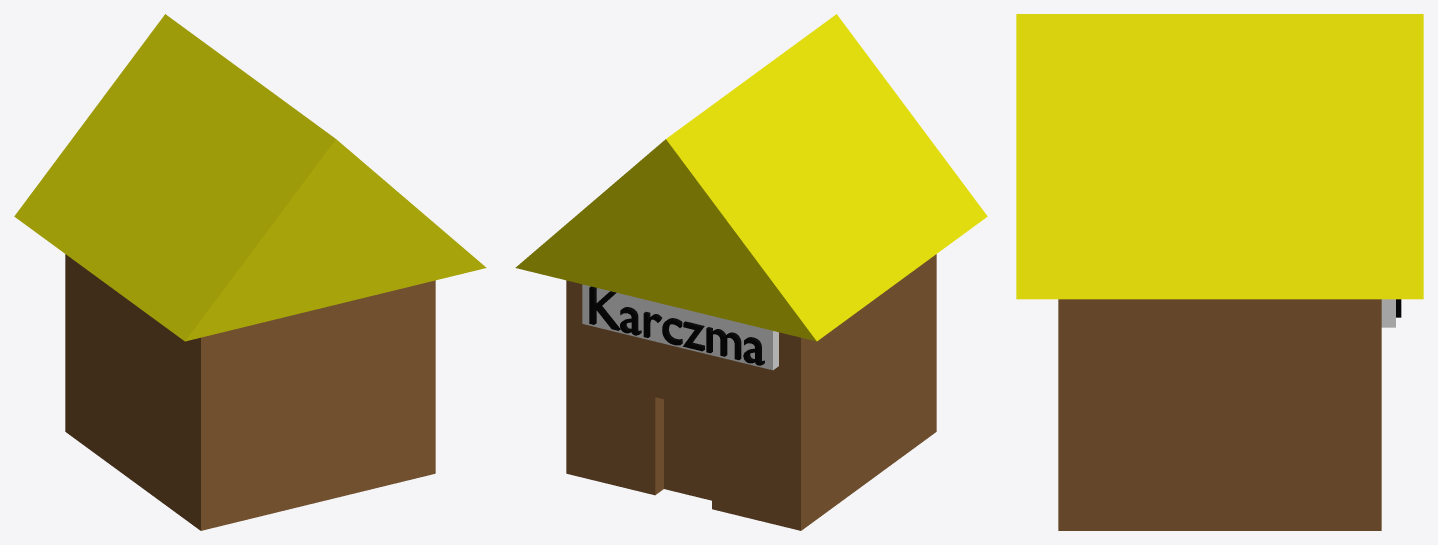
The model's file is karczma.glb.
3 views of the same model, side by side, from view 1: azimuth 30°, elevation 25°; view 2: azimuth 150°, elevation 25°; view 3: azimuth 270°, elevation 25° (orthographic). The views are drawn at different scales.
Parts seen in each view (by area): view 1: Cube.002, Cube; view 2: Cube.002, Cube, Cube.001, Text; view 3: Cube.002, Cube.
Part boxes in pixels (x1,y1,x2,y2): Cube.002: [14, 14, 486, 341]; Cube: [65, 254, 435, 530]; Cube.002: [515, 14, 987, 341]; Cube: [566, 254, 936, 530]; Cube.001: [582, 284, 778, 370]; Text: [589, 286, 764, 365]; Cube.002: [1016, 14, 1423, 299]; Cube: [1058, 299, 1381, 530].
Size of the model in its own units: 4.01 by 4.77 by 3.93.
